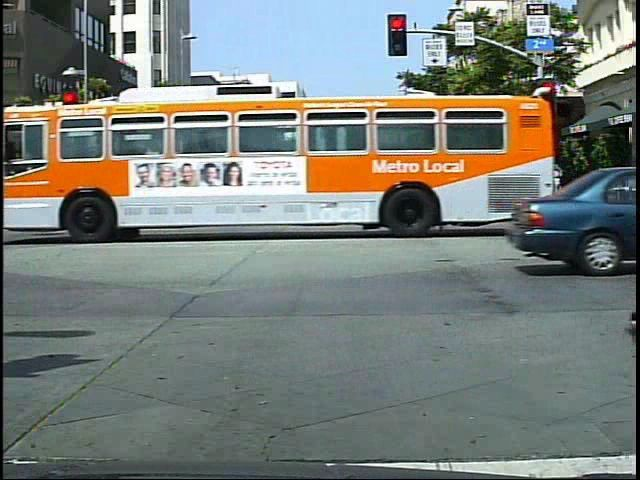person: (286, 165, 319, 229), (187, 168, 218, 234), (340, 166, 369, 230), (548, 160, 570, 211)
